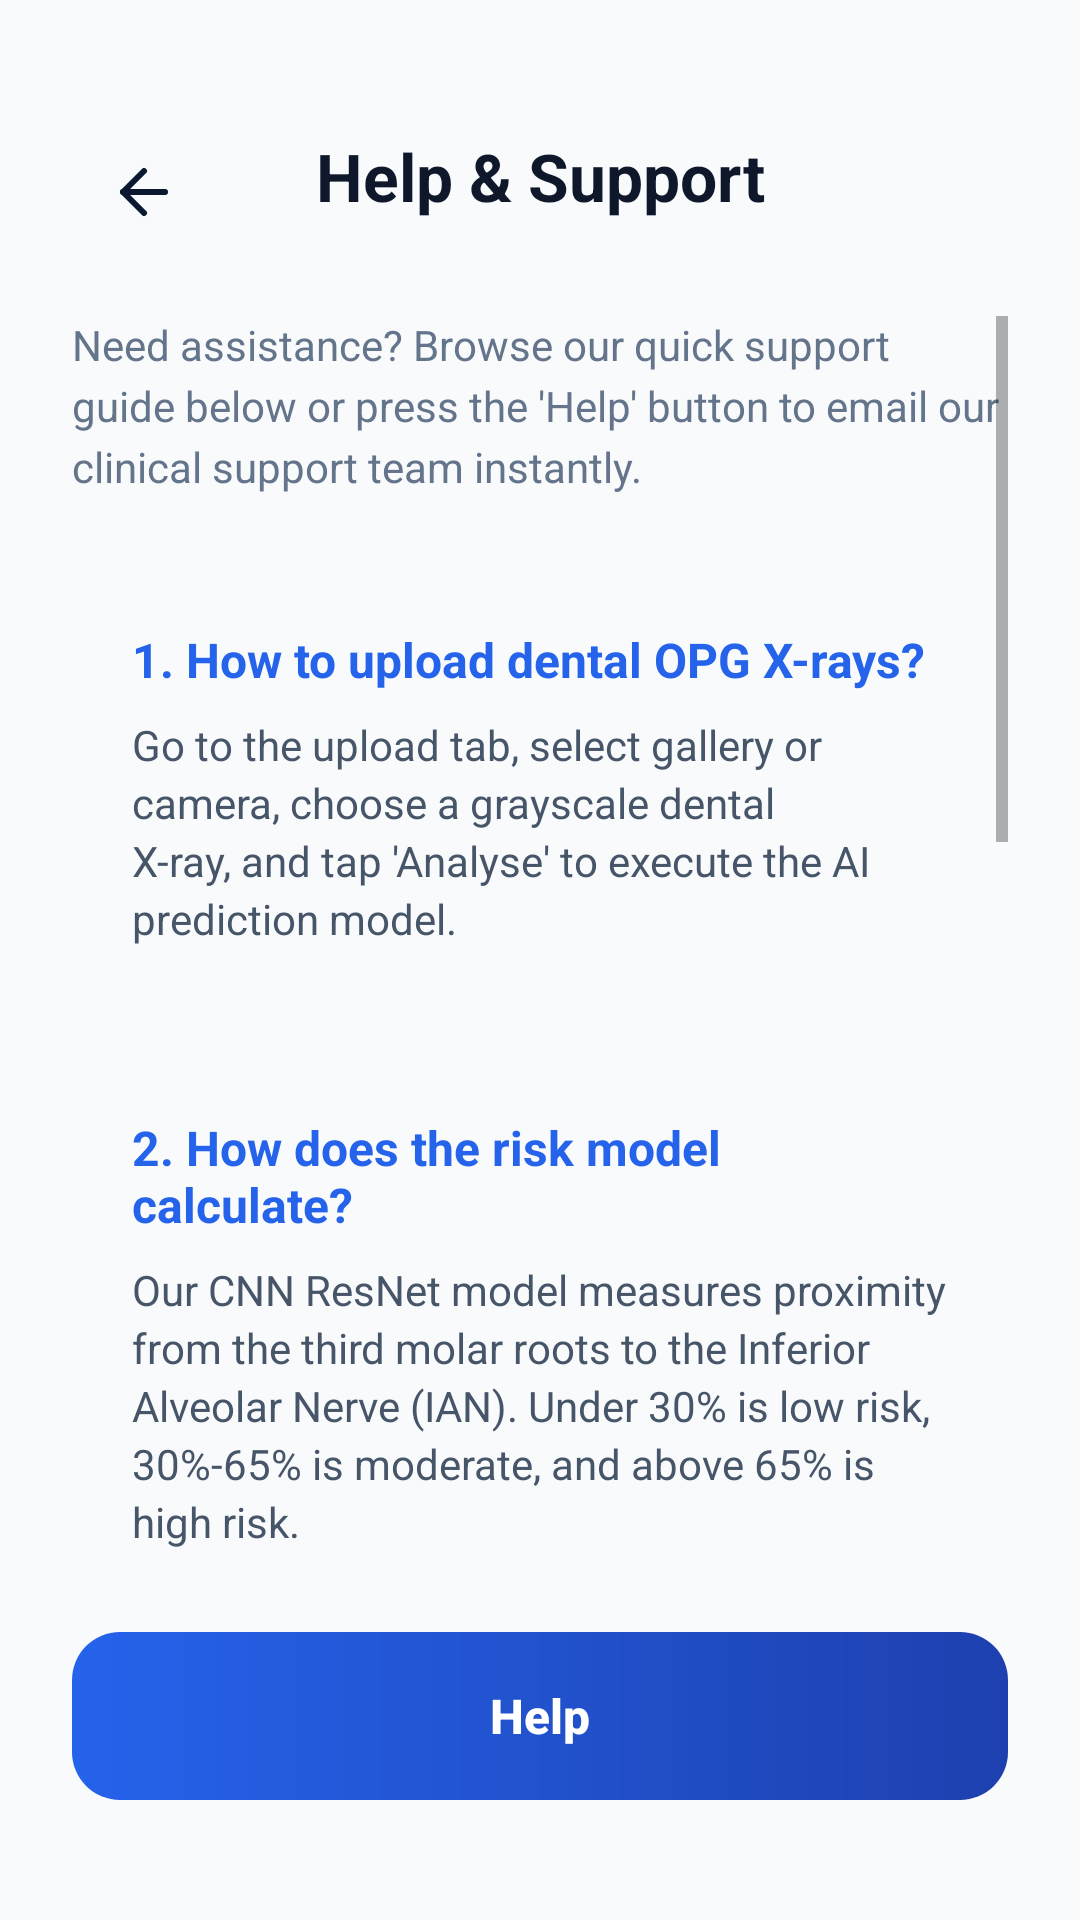

Named icons in this screenshot (1080w x 1920h) and their centers, point (x, y):
arrow back: point (144, 192)
